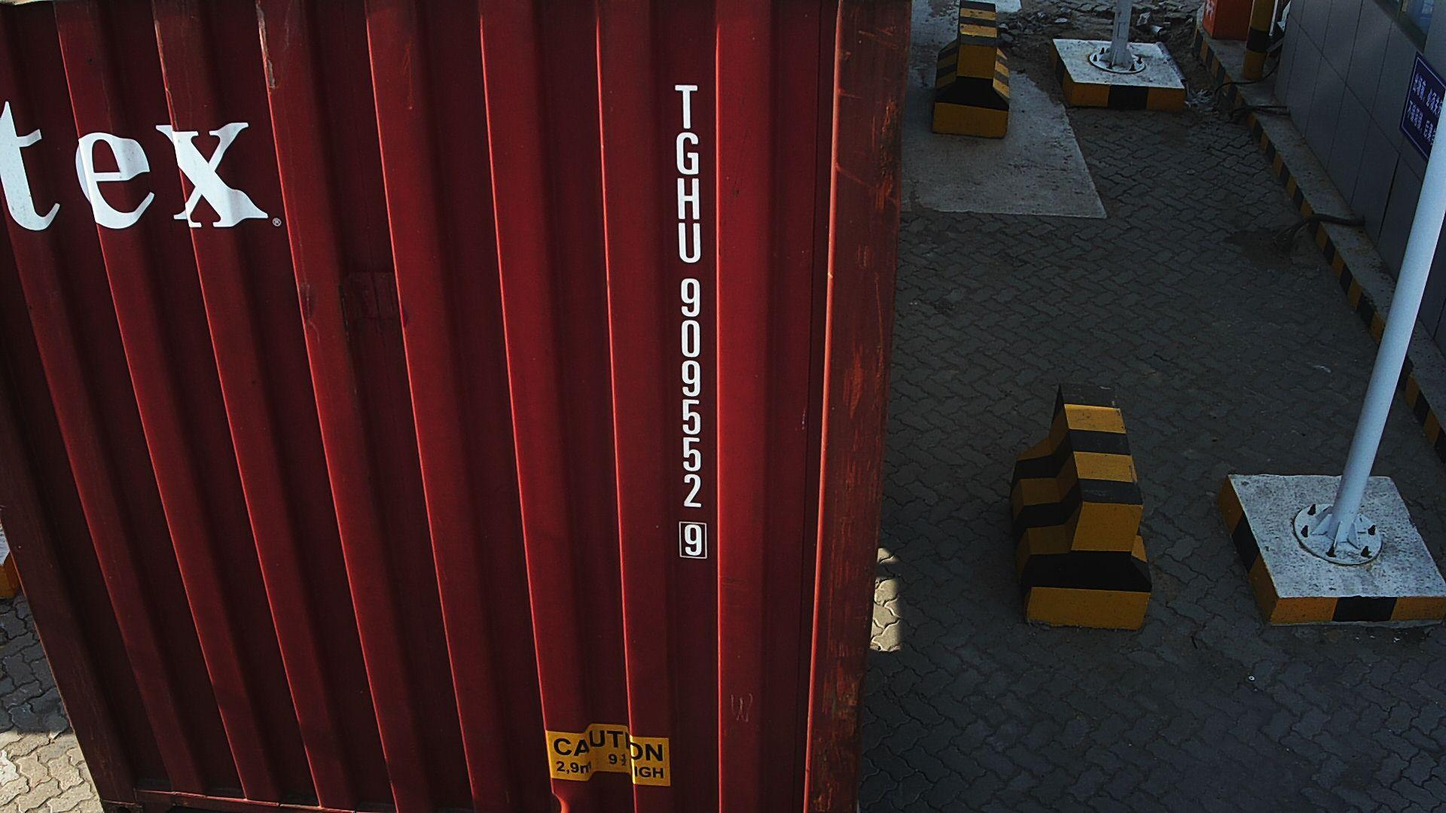container-numbers: (665, 78, 709, 562)
